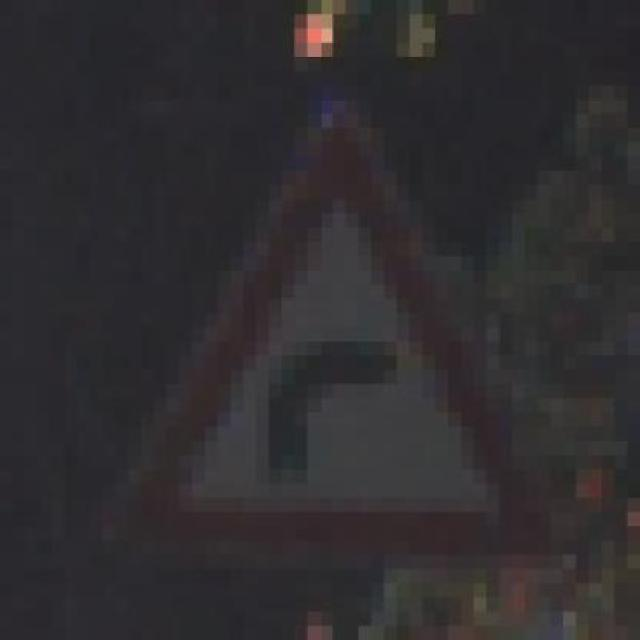Dangerous Rright Curve Ahead: (115, 100, 563, 568)
